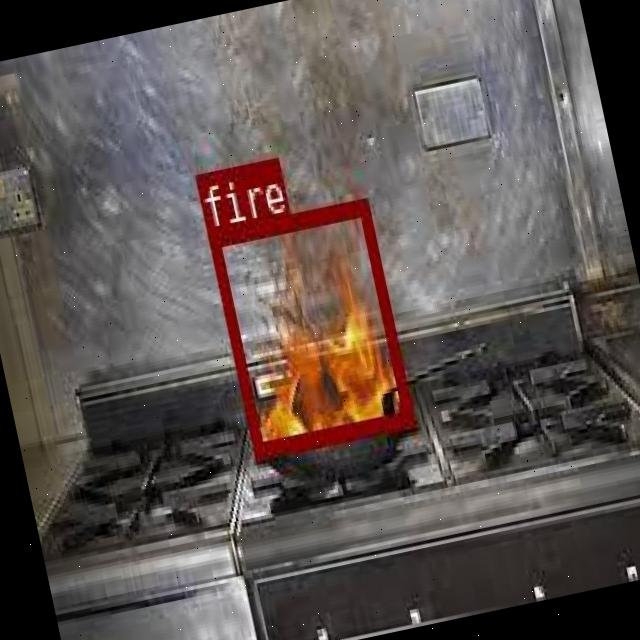fire: (205, 197, 411, 455)
